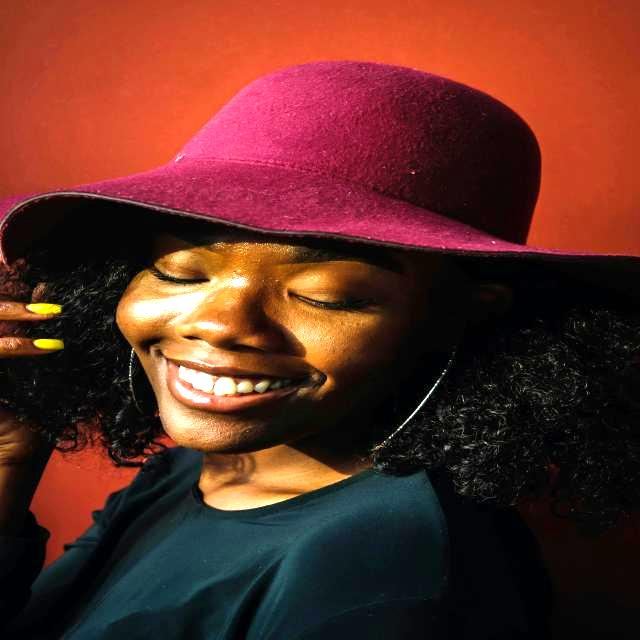no_hard_hat: (2, 61, 549, 256)
person: (2, 62, 638, 640)
